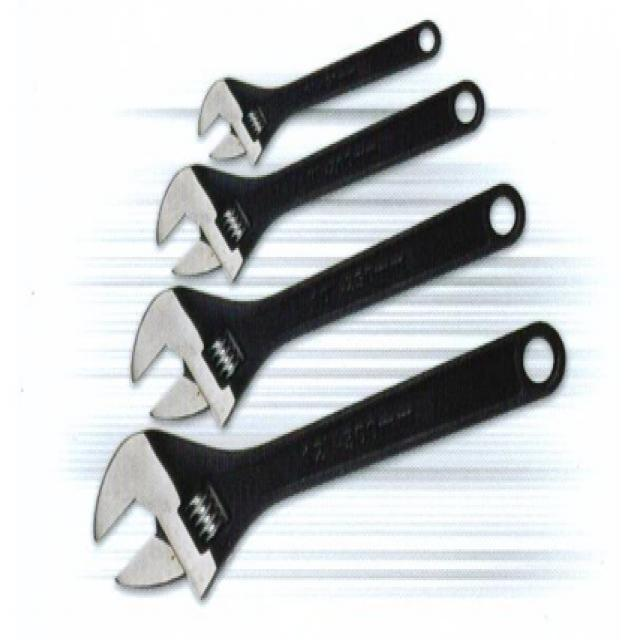wrench: (89, 318, 570, 612), (120, 182, 528, 430), (148, 73, 488, 284), (190, 14, 446, 168)
